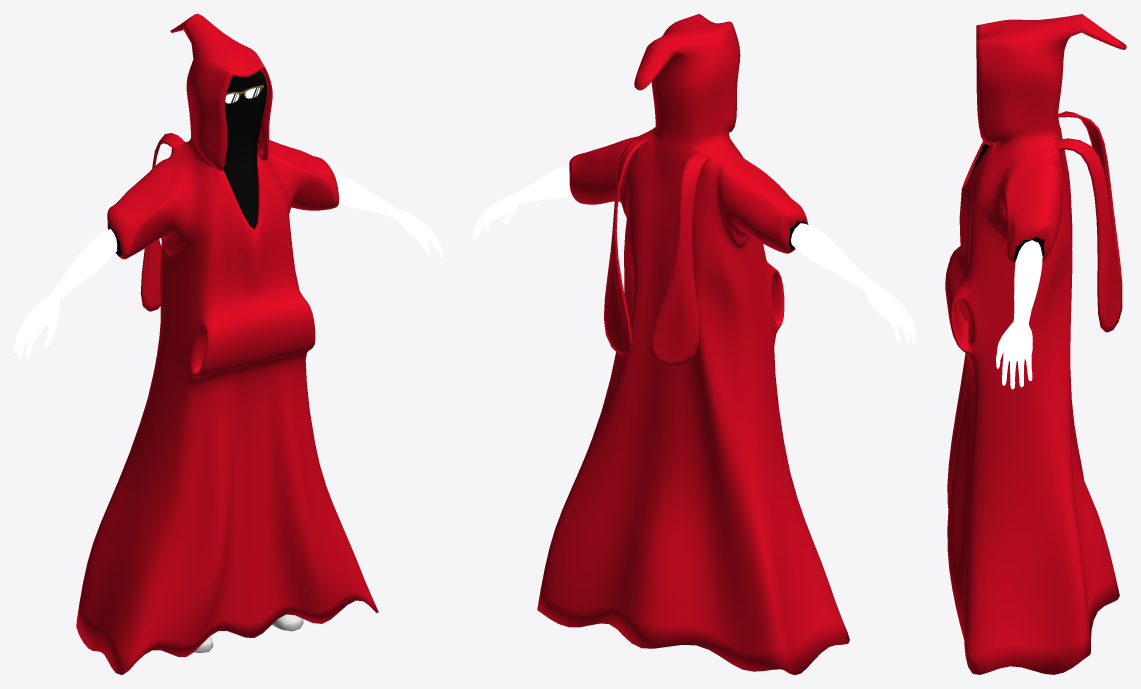
File: RedPose 1.fbx
The picture shows the model from 3 angles, left to right: view 1: azimuth 30°, elevation 25°; view 2: azimuth 150°, elevation 25°; view 3: azimuth 270°, elevation 25°; orthographic projection. The views are drawn at different scales.
Visible parts, largest first — view 1: retopo.005; view 2: retopo.005; view 3: retopo.005.
Boxes of the visible parts, x1,y1,x2,y2 form: retopo.005: (14, 14, 443, 674); retopo.005: (472, 14, 916, 674); retopo.005: (945, 14, 1126, 674).
Size of the model in its own units: 162 by 217 by 59.4.
